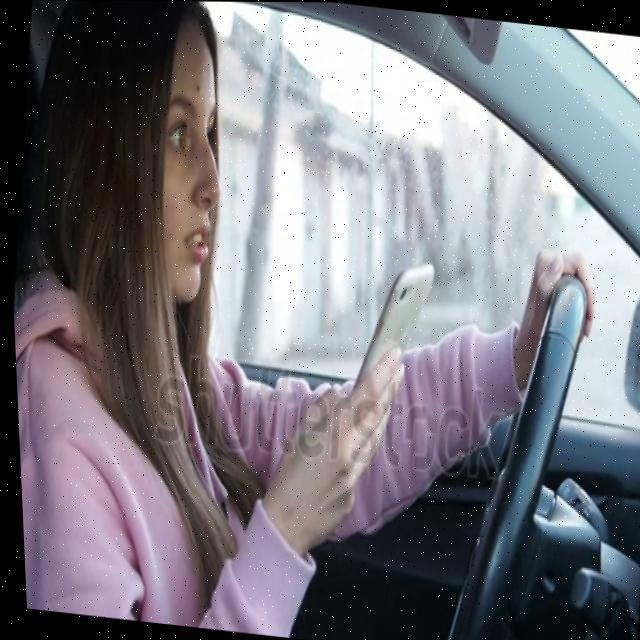PhoneCall: (332, 255, 439, 434)
